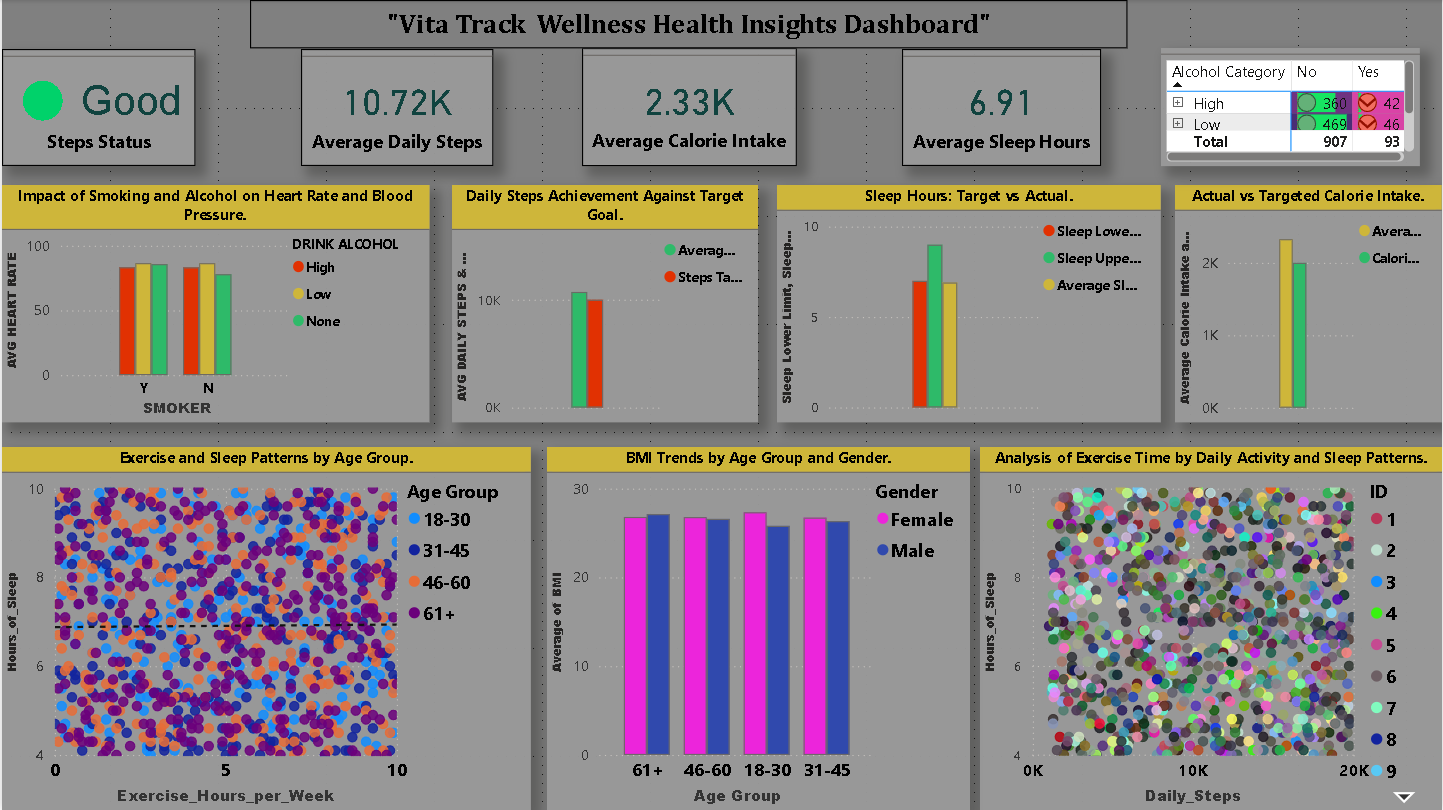

The dashboard page shown, as its layout file describes it:
{"tool":"powerbi","page":{"name":"dashboard","canvas":[1280,720],"ordinal":0},"visuals":[{"type":"card","fields":{"Values":["health_activity_data.Measure"]},"box":[266,43.4,171.1,103.7],"z":0},{"type":"card","fields":{"Values":["health_activity_data.Average Sleep Hours"]},"box":[799.8,43.4,177.3,103.7],"z":1000},{"type":"card","fields":{"Values":["health_activity_data.Average Calorie Intake"]},"box":[515.2,42.6,190.6,104.6],"z":2000},{"type":"card","fields":{"Values":["health_activity_data.Steps Status"]},"box":[0,43.4,172,103.7],"z":3000},{"type":"lineClusteredColumnComboChart","title":"Daily Steps Achievement Against Target Goal.","fields":{"Y":["health_activity_data.Average Daily Steps","health_activity_data.Steps Target"]},"box":[399.9,164,272.2,211],"z":4000},{"type":"lineClusteredColumnComboChart","title":"Sleep Hours: Target vs Actual.","fields":{"Y":["health_activity_data.Sleep Lower Limit","health_activity_data.Sleep Upper Limit","health_activity_data.Average Sleep Hours"]},"box":[689,164,341.4,211],"z":5000},{"type":"clusteredColumnChart","title":"Actual vs Targeted Calorie Intake.","fields":{"Y":["health_activity_data.Average Calorie Intake","health_activity_data.Calories Target"]},"box":[1042.8,164,236.7,211],"z":6000},{"type":"pivotTable","fields":{"Rows":["health_activity_data.Alcohol Category","health_activity_data.Smoker(1/0)","health_activity_data.BMI Category","health_activity_data.Exercise Category"],"Columns":["health_activity_data.Heart_Disease"],"Values":["CountNonNull(health_activity_data.Heart_Disease)"]},"box":[1030.2,42.7,227.6,104.9],"z":7000},{"type":"scatterChart","title":"Exercise and Sleep Patterns by Age Group.","fields":{"Y":["health_activity_data.Hours_of_Sleep"],"X":["health_activity_data.Exercise_Hours_per_Week"],"Series":["health_activity_data.Age Group"]},"box":[0,397.2,470,322.8],"z":8000},{"type":"lineClusteredColumnComboChart","title":"BMI Trends by Age Group and Gender.","fields":{"Category":["health_activity_data.Age Group"],"Series":["health_activity_data.Gender"],"Y":["Avg(health_activity_data.BMI)"]},"box":[484.1,397.2,376,322.8],"z":9000},{"type":"clusteredColumnChart","title":"Impact of Smoking and Alcohol on Heart Rate and Blood Pressure.","fields":{"Category":["health_activity_data.Smoker(Y/N)"],"Series":["health_activity_data.Alcohol Category"],"Y":["health_activity_data.Avg Heart Rate"]},"box":[0,164,379.5,211],"z":10000},{"type":"scatterChart","title":"Analysis of Exercise Time by Daily Activity and Sleep Patterns.","fields":{"Y":["health_activity_data.Hours_of_Sleep"],"X":["health_activity_data.Daily_Steps"],"Series":["health_activity_data.ID"]},"box":[869,397.2,411.4,322.8],"z":11000},{"type":"textbox","box":[220.8,0,780.3,42.6],"z":12000}]}

Visuals, with their boxes in screenshot pixels (x1, y1, x2, y2), scaled from the page's 1280x720 canvas onto the 1443x810 screenshot:
card - health_activity_data.Measure: 300,49,493,165
card - health_activity_data.Average Sleep Hours: 902,49,1102,165
card - health_activity_data.Average Calorie Intake: 581,48,796,166
card - health_activity_data.Steps Status: 0,49,194,165
"Daily Steps Achievement Against Target Goal." lineClusteredColumnComboChart: 451,184,758,422
"Sleep Hours: Target vs Actual." lineClusteredColumnComboChart: 777,184,1162,422
"Actual vs Targeted Calorie Intake." clusteredColumnChart: 1176,184,1442,422
pivotTable - health_activity_data.Alcohol Category x health_activity_data.Smoker(1/0): 1161,48,1418,166
"Exercise and Sleep Patterns by Age Group." scatterChart: 0,447,530,809
"BMI Trends by Age Group and Gender." lineClusteredColumnComboChart: 546,447,970,809
"Impact of Smoking and Alcohol on Heart Rate and Blood Pressure." clusteredColumnChart: 0,184,428,422
"Analysis of Exercise Time by Daily Activity and Sleep Patterns." scatterChart: 980,447,1442,809
textbox: 249,0,1129,48
